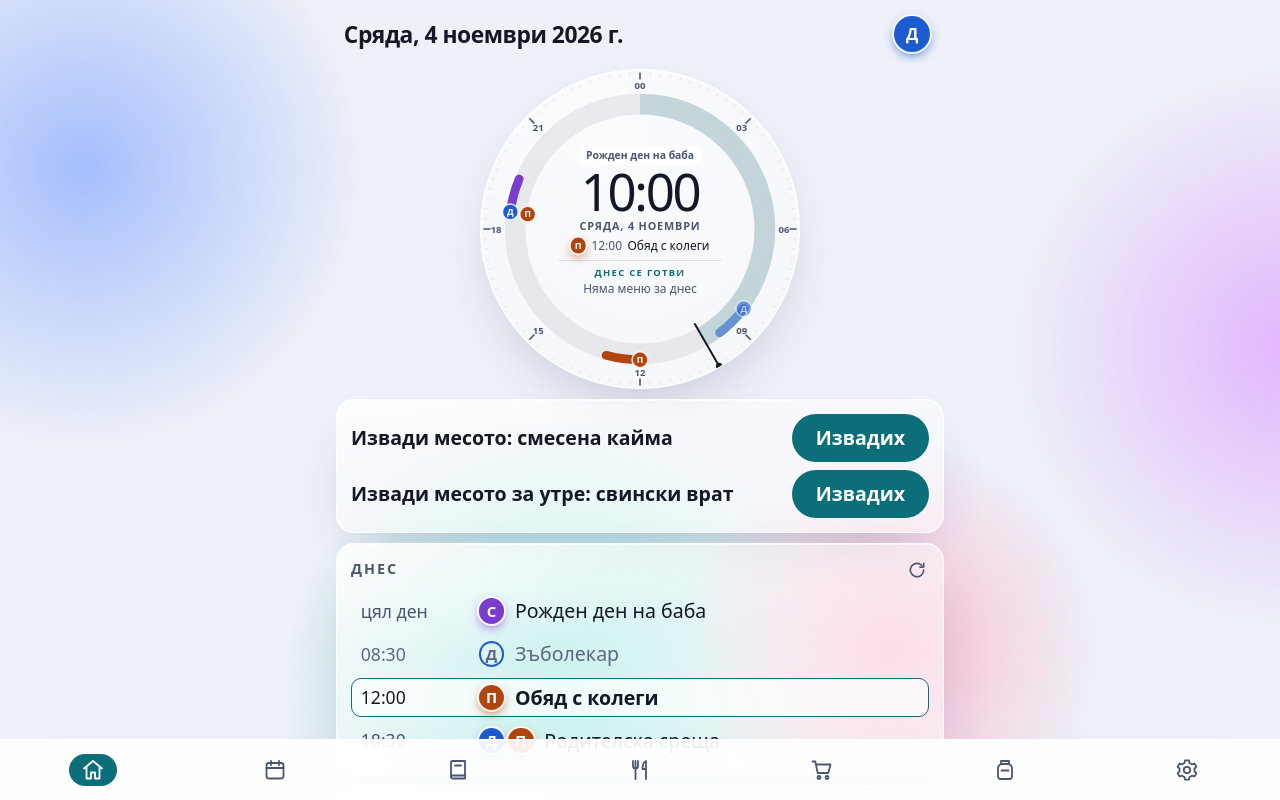
Test: DashboardScreen › „Днес се готви“ › докато едно „Извадих“ чака отговор, изключено е само то
Expected: the text "Извади месото: смесена кайма" is shown, left=351, top=425, right=673, bottom=450
Click the button "Извадих" next to "смесена кайма" at [860, 438], box left=792, top=414, right=929, bottom=462
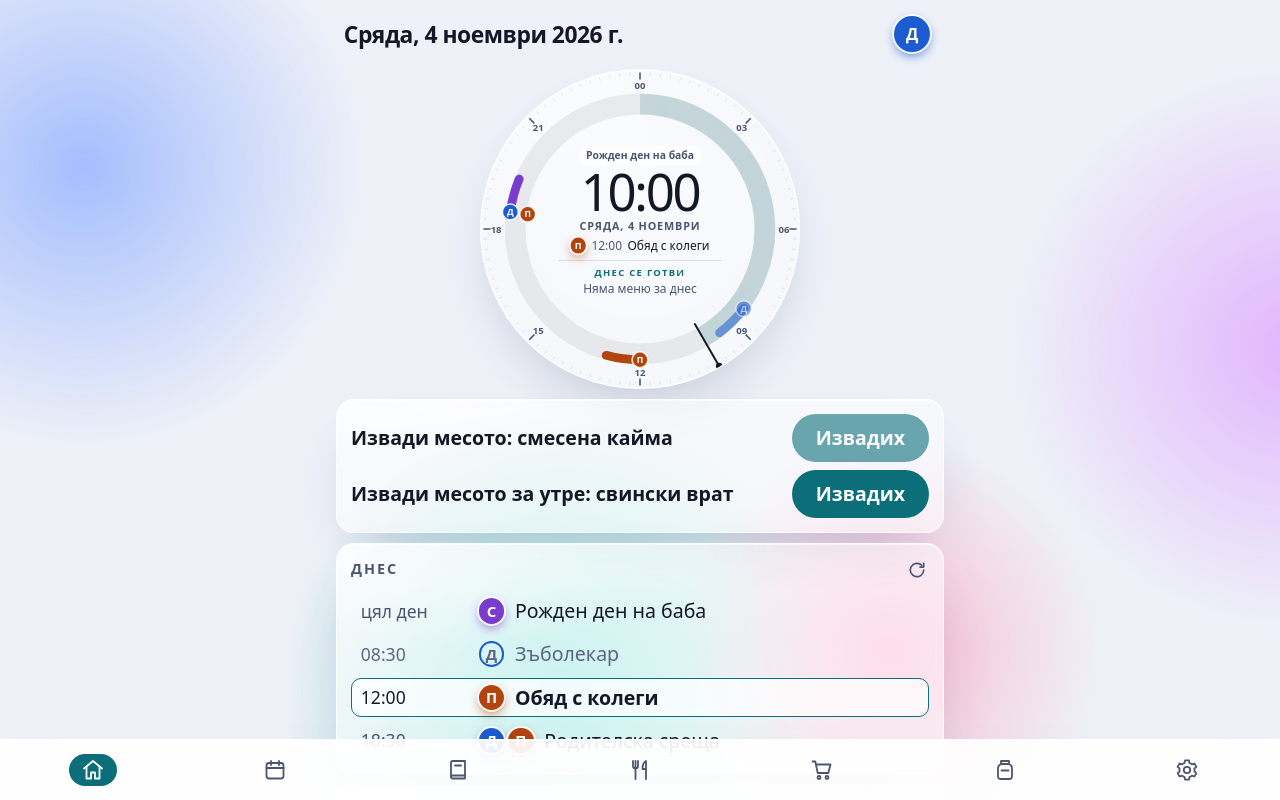
Expected: the button "Извадих" in the row of "Извади месото за утре" is enabled, left=792, top=470, right=929, bottom=518
Expected: the button "Извадих" next to "смесена кайма" is disabled, left=792, top=414, right=929, bottom=462
